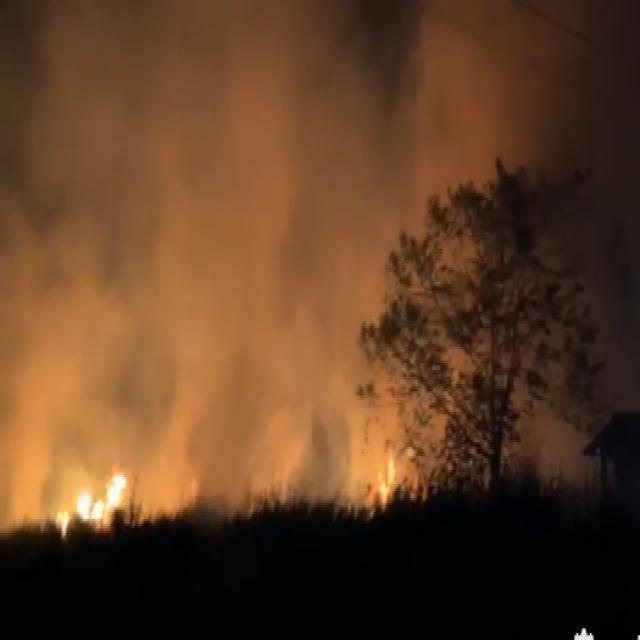Fire: (50, 472, 138, 534)
Smoke: (10, 39, 229, 490), (219, 268, 349, 502)
